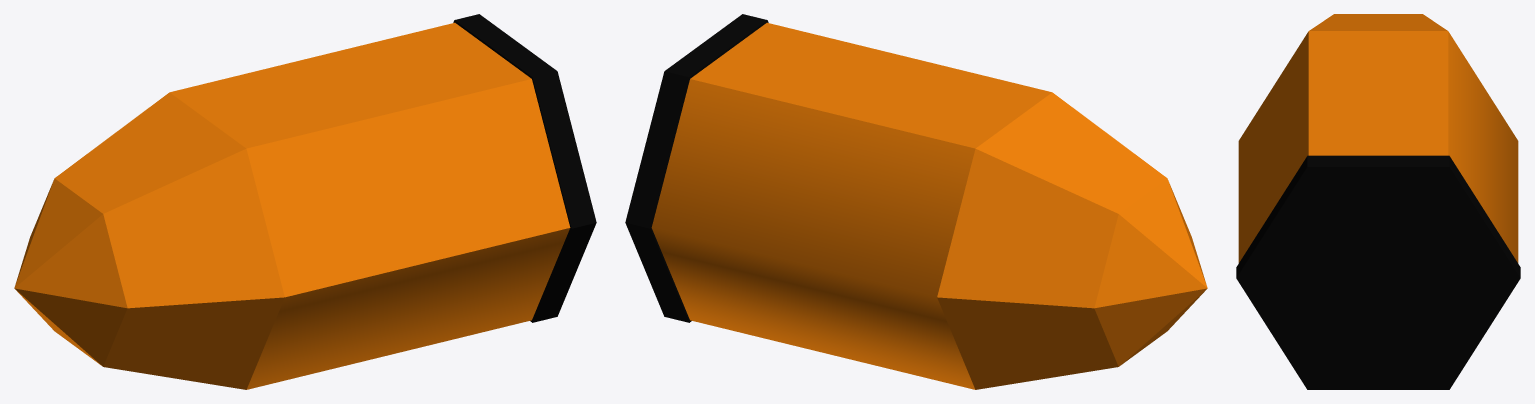
Rendered from СнаряDick.FBX.
3 renders of one model, left to right at view 1: azimuth 30°, elevation 25°; view 2: azimuth 150°, elevation 25°; view 3: azimuth 270°, elevation 25°, orthographic. The views are drawn at different scales.
Visible parts, largest first — view 1: Cylinder030; view 2: Cylinder030; view 3: Cylinder030.
Boxes of the visible parts, x1,y1,x2,y2 form: Cylinder030: [14, 14, 596, 389]; Cylinder030: [625, 14, 1207, 389]; Cylinder030: [1236, 14, 1520, 389].
Size of the model in its own units: 17.34 by 8.07 by 9.32.
